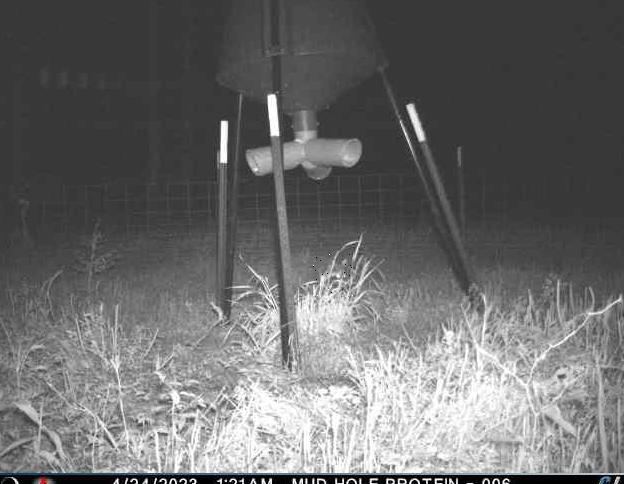Raccoon: (314, 251, 355, 297)
